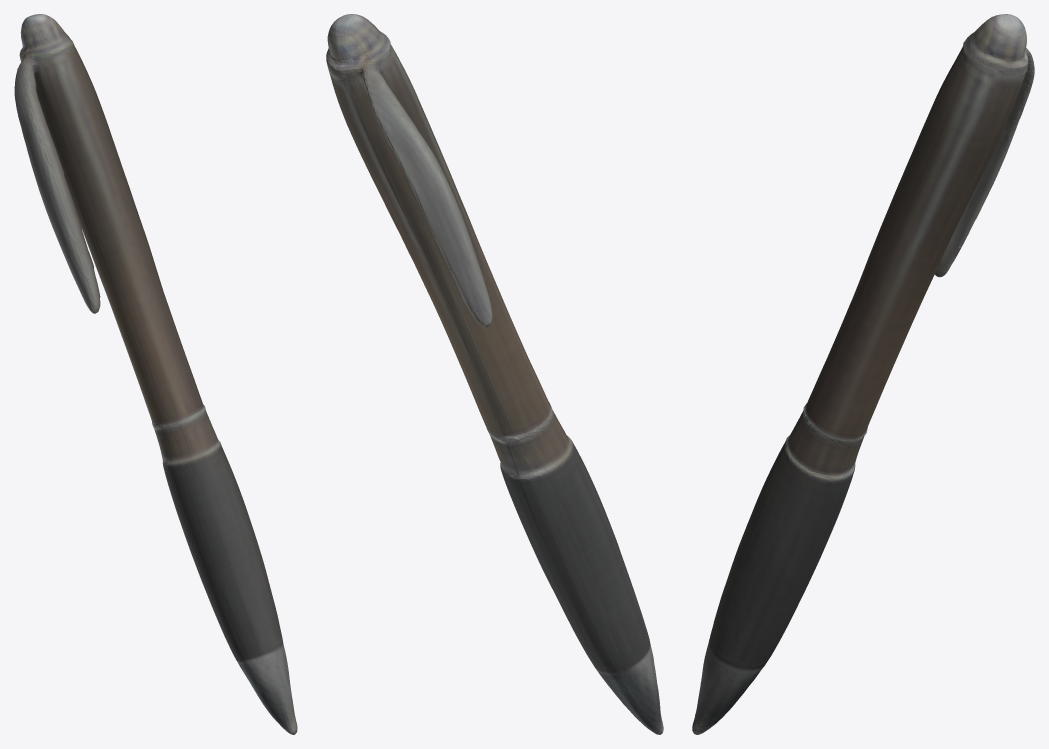
Rendered from frame_0002_source_000002_object.glb.
3 views of the same model, side by side, from view 1: azimuth 90°, elevation 25°; view 2: azimuth 150°, elevation 25°; view 3: azimuth 270°, elevation 25° (orthographic). The views are drawn at different scales.
Parts seen in each view (by area): view 1: world; view 2: world; view 3: world.
Boxes of the visible parts, x1,y1,x2,y2 form: world: (14, 14, 297, 734); world: (326, 14, 663, 734); world: (692, 14, 1034, 734).
Size of the model in its own units: 0.0442 by 0.1777 by 0.0694.
